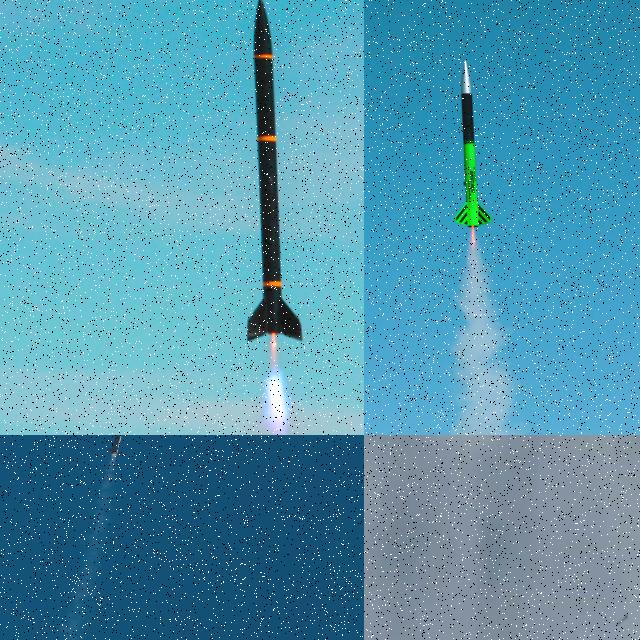Rocket: (244, 0, 304, 345), (452, 59, 494, 230), (105, 435, 123, 458), (616, 614, 628, 628)
